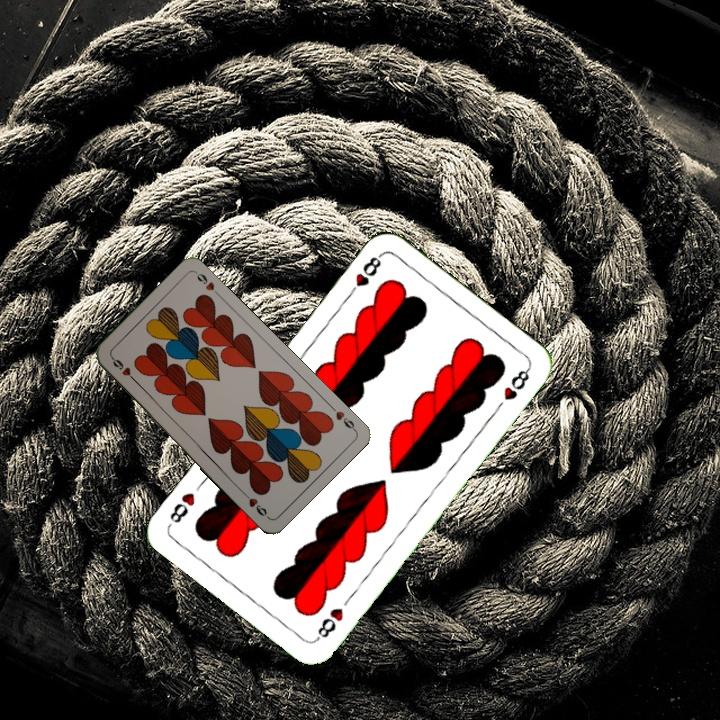H8: (343, 249, 385, 300), (312, 603, 346, 643)
H9: (107, 353, 140, 385), (326, 401, 358, 433)
